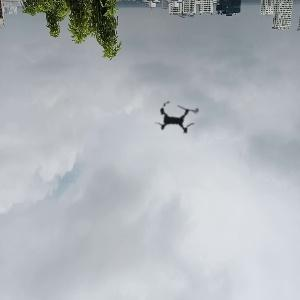drone: (143, 84, 212, 153)
